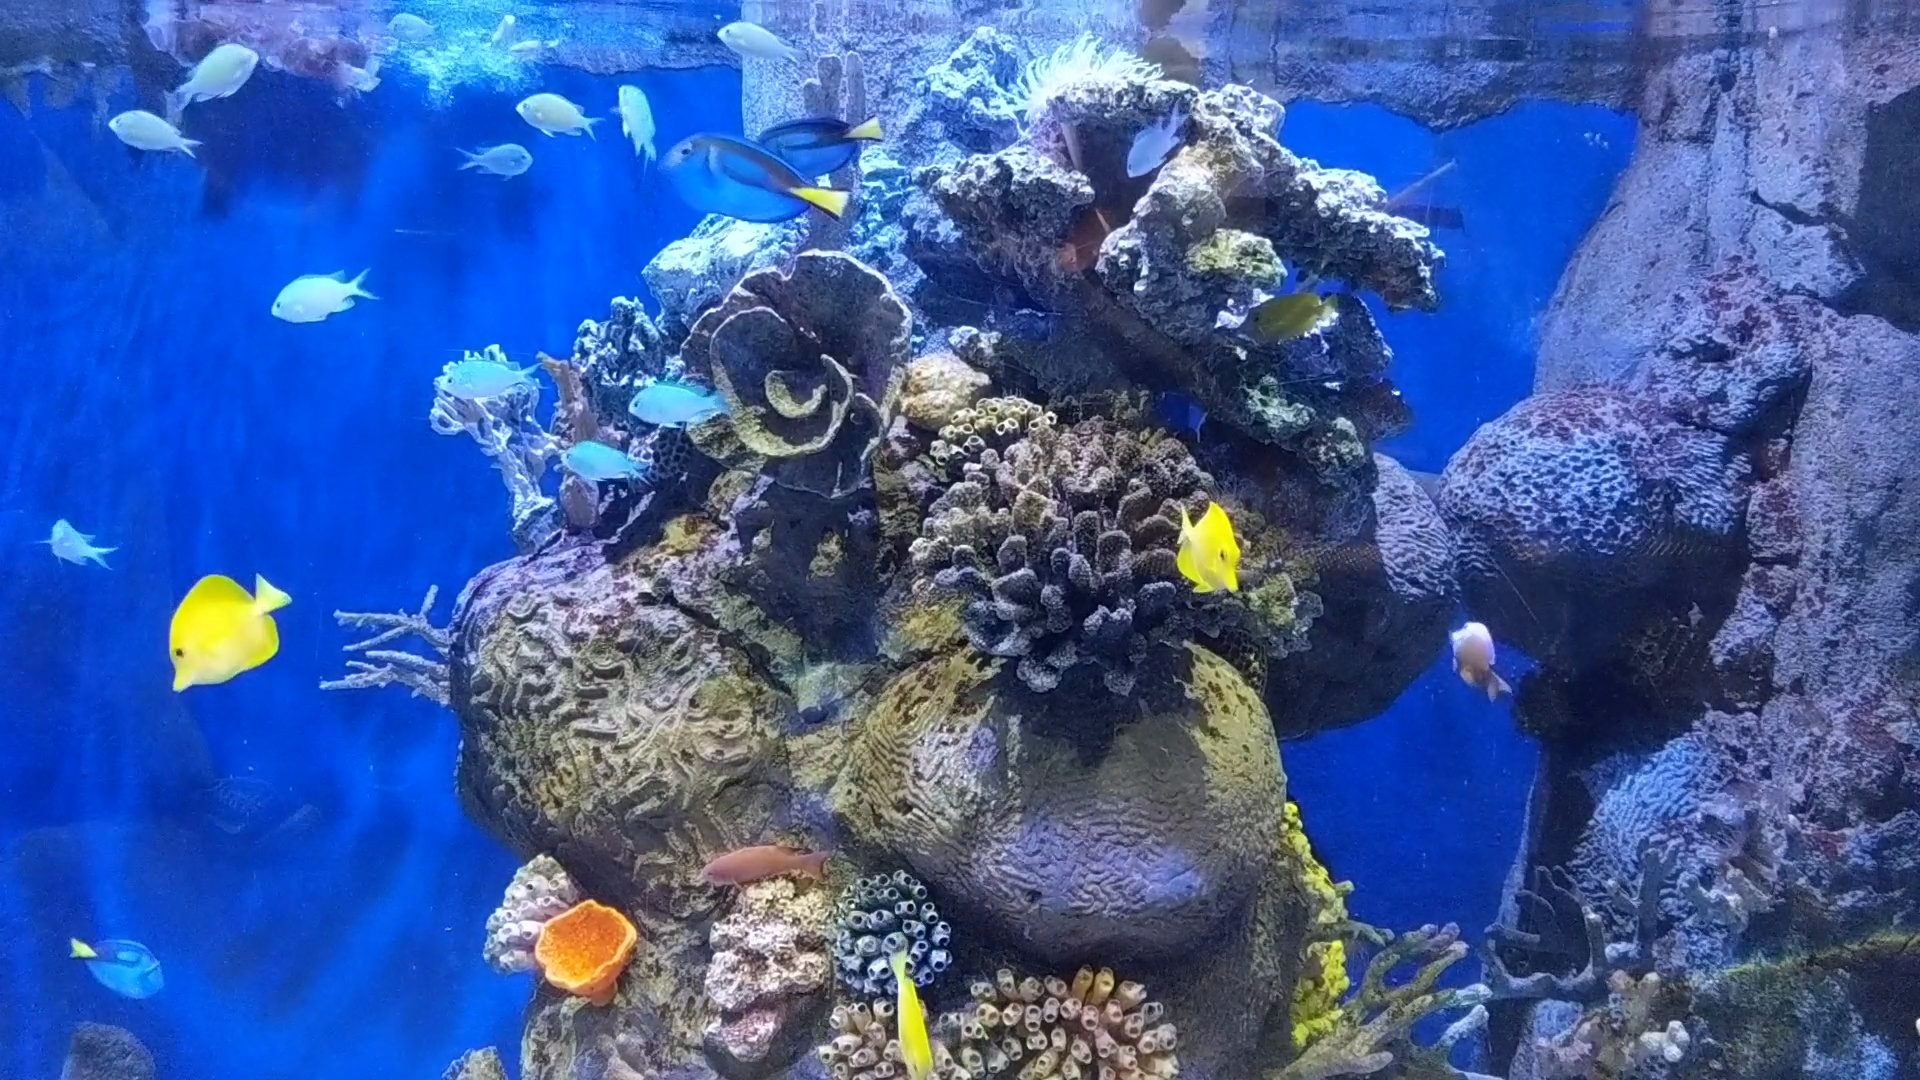blue tang surgeonfish: (654, 137, 847, 235), (57, 911, 178, 1013), (756, 102, 884, 187)
damselfish: (264, 255, 382, 338), (160, 36, 274, 119), (99, 98, 210, 175), (618, 375, 733, 438), (1112, 94, 1191, 181), (554, 440, 665, 500), (438, 127, 545, 185), (516, 91, 611, 156), (426, 349, 545, 400), (516, 94, 608, 156), (615, 55, 662, 173), (41, 512, 121, 580), (717, 21, 808, 76)
pink fish: (1433, 608, 1522, 708)
saddle butterfly fish: (138, 556, 306, 704), (1160, 496, 1251, 604)
